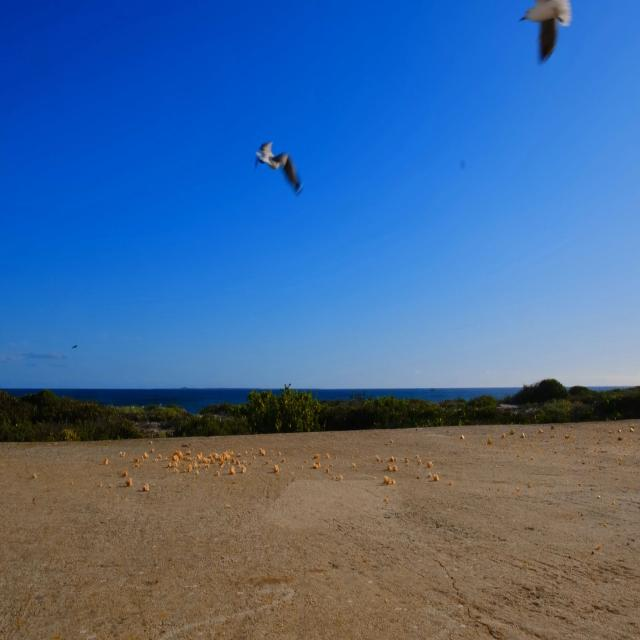bird: (249, 123, 309, 203), (515, 0, 582, 65)
